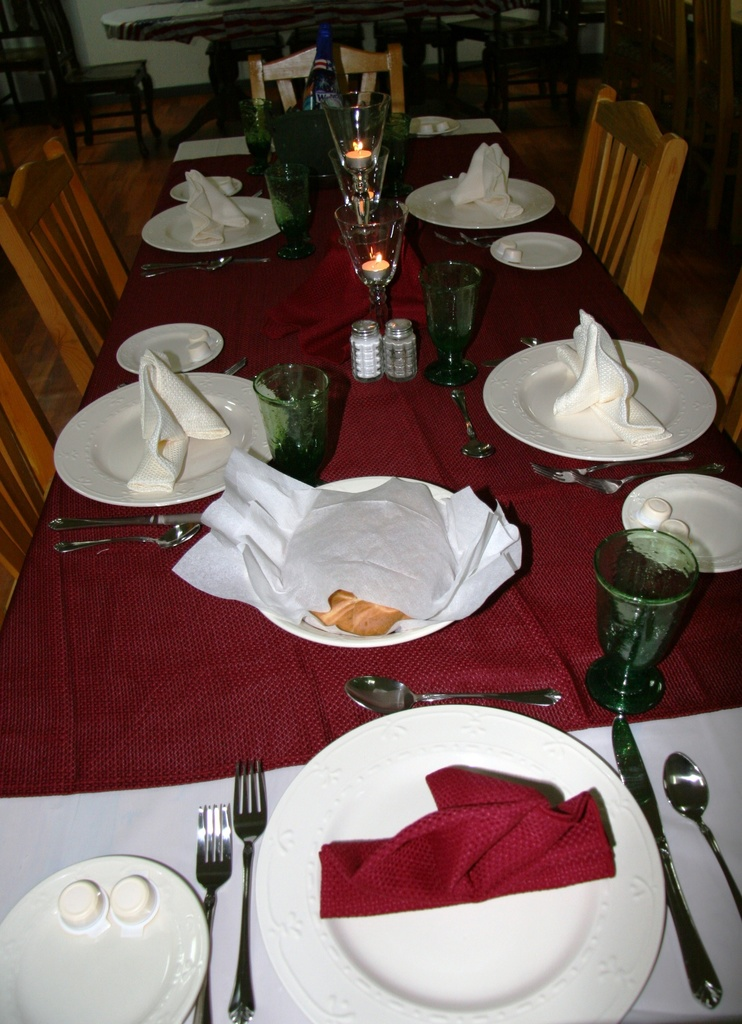plate: (394, 155, 563, 239), (486, 215, 588, 275)
